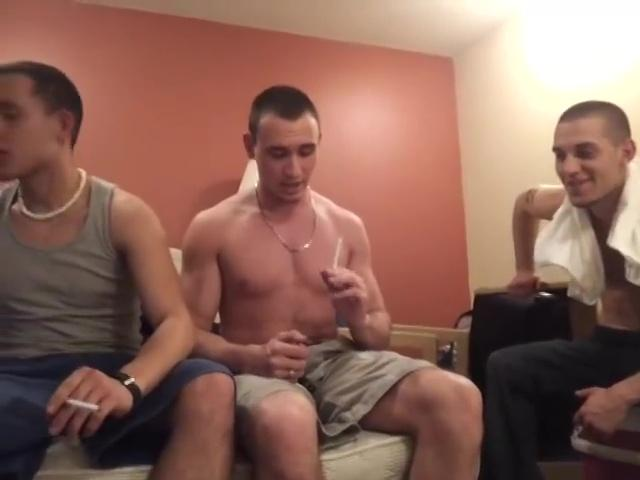cigarette: (63, 397, 102, 412), (333, 235, 347, 274)
